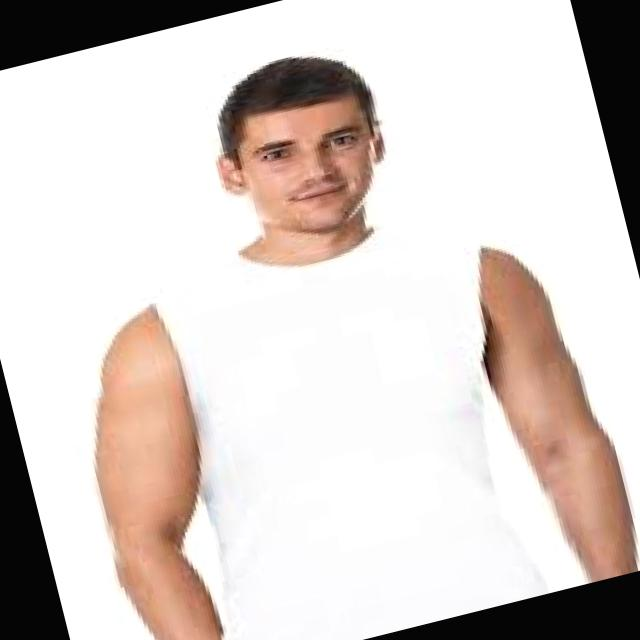no_vest: (113, 187, 568, 640)
